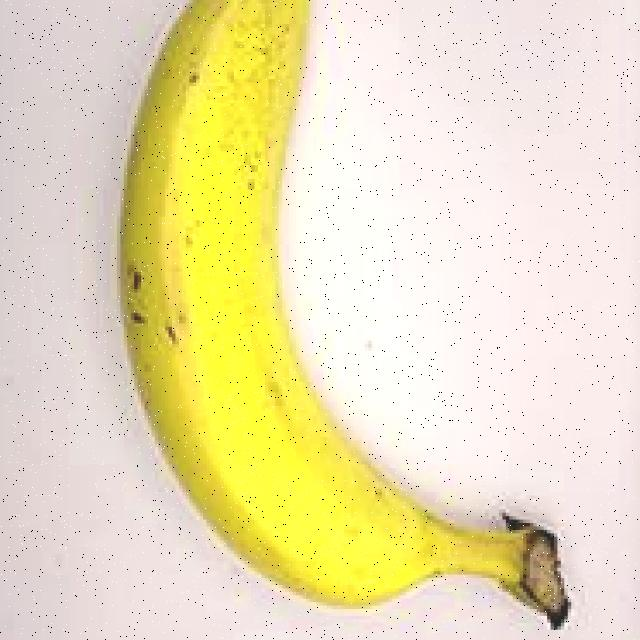Ripe: (93, 0, 578, 640)
